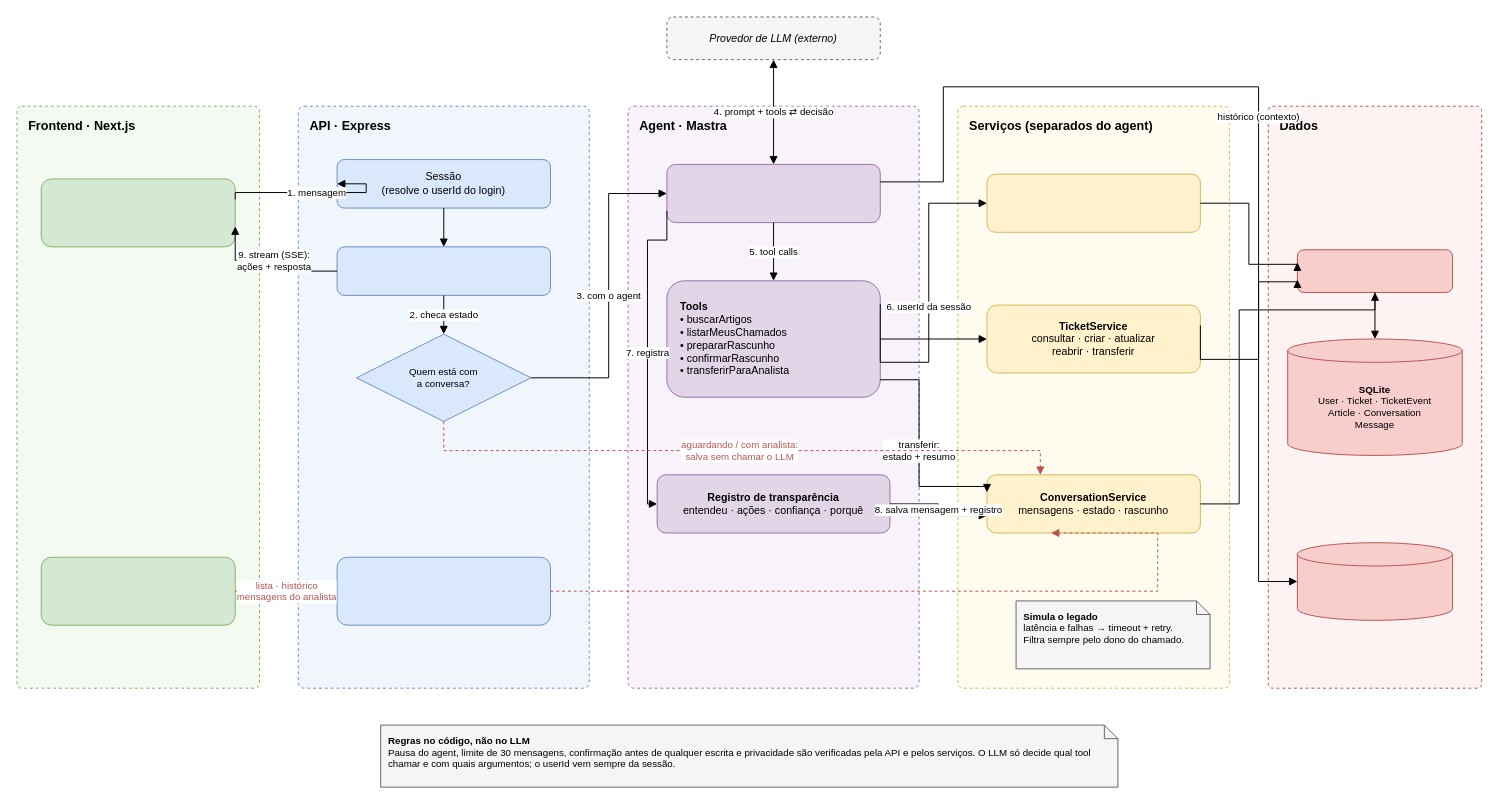
This 1499x804 diagram has some shape labels left out. Each missing label, with the centre of its shape:
"Agent Nexo Assist instruções + modelo" belongs at (x=773, y=193).
"Chat do funcionário Telas 2 e 3" belongs at (x=137, y=212).
"Console do analista Telas 4 e 5" belongs at (x=137, y=590).
"KnowledgeService central de ajuda" belongs at (x=1093, y=202).
"Memória do Mastra (LibSQL)" belongs at (x=1374, y=581).
"POST /chat valida limite de 30 msgs" belongs at (x=443, y=270).
"Prisma ORM" belongs at (x=1374, y=270).
"Rotas /console assumir · devolver · encerrar chamados do funcionário" belongs at (x=443, y=590).
